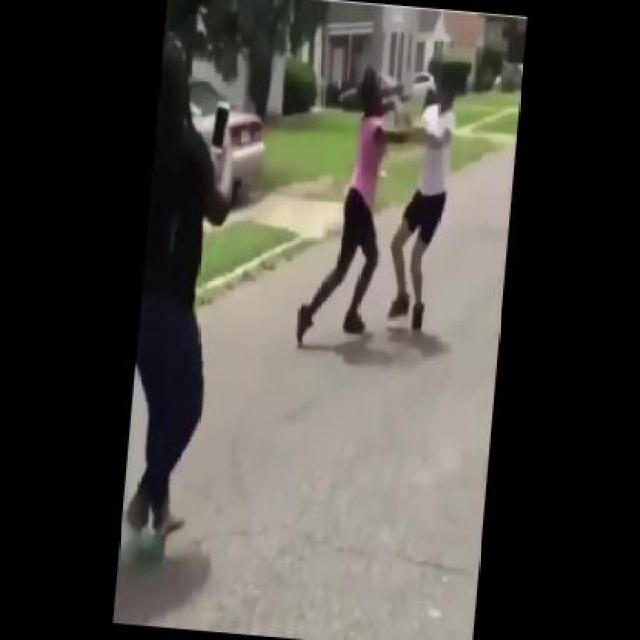fight: (334, 67, 458, 344)
non-fight: (121, 38, 250, 554)
